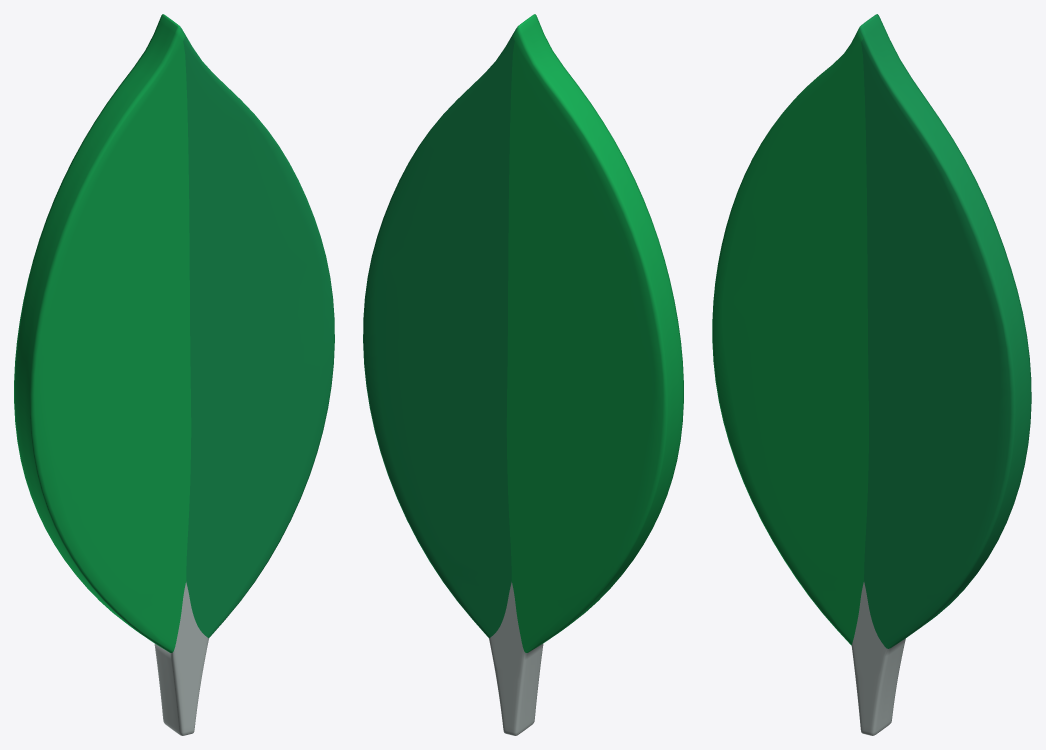
File: mongo.glb
The picture shows the model from 3 angles, left to right: view 1: azimuth 30°, elevation 25°; view 2: azimuth 150°, elevation 25°; view 3: azimuth 330°, elevation 25°; orthographic projection.
Visible parts, largest first — view 1: MongoDB; view 2: MongoDB; view 3: MongoDB.
Part boxes in pixels (x1,y1,x2,y2): MongoDB: [14, 14, 334, 735]; MongoDB: [363, 14, 683, 735]; MongoDB: [712, 14, 1031, 735].
Size of the model in its own units: 0.0446 by 0.0998 by 0.005.
